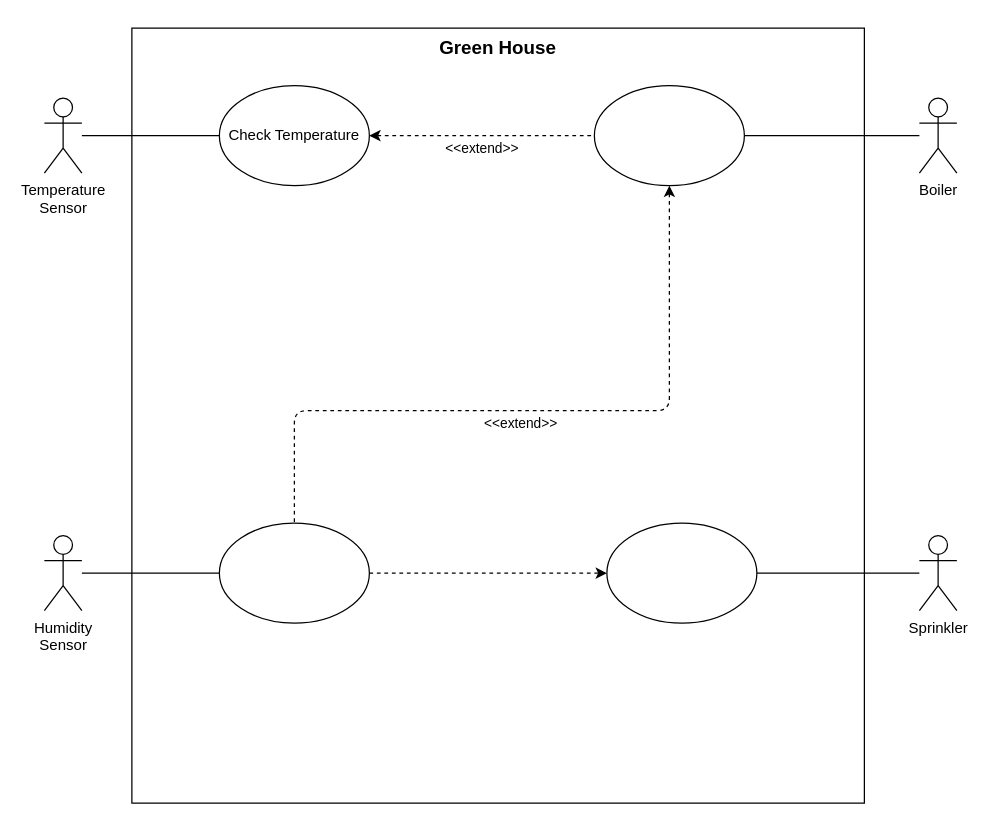
This 989x825 diagram has some shape labels left out. Here are the shapes that lost their labels. From the top down, the box of each, then its label:
(593, 84, 744, 186): Change temperature
(218, 522, 369, 623): Check Humidity
(606, 522, 757, 623): Sprinle Water
